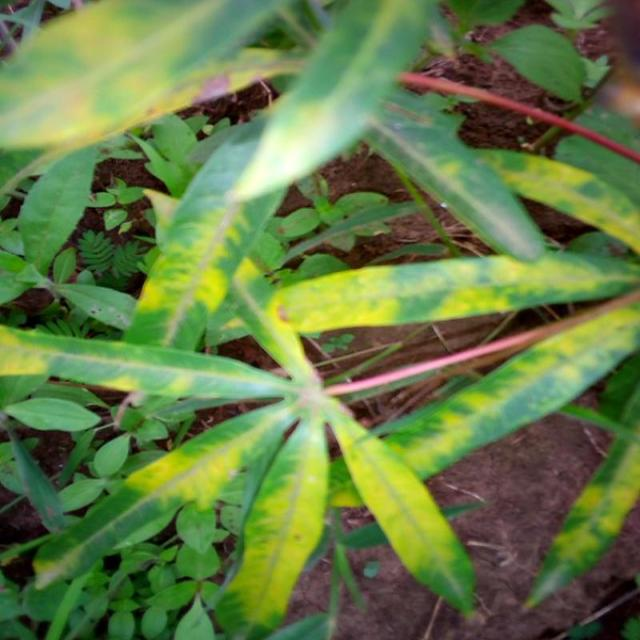cassava leaf: (0, 1, 639, 638)
